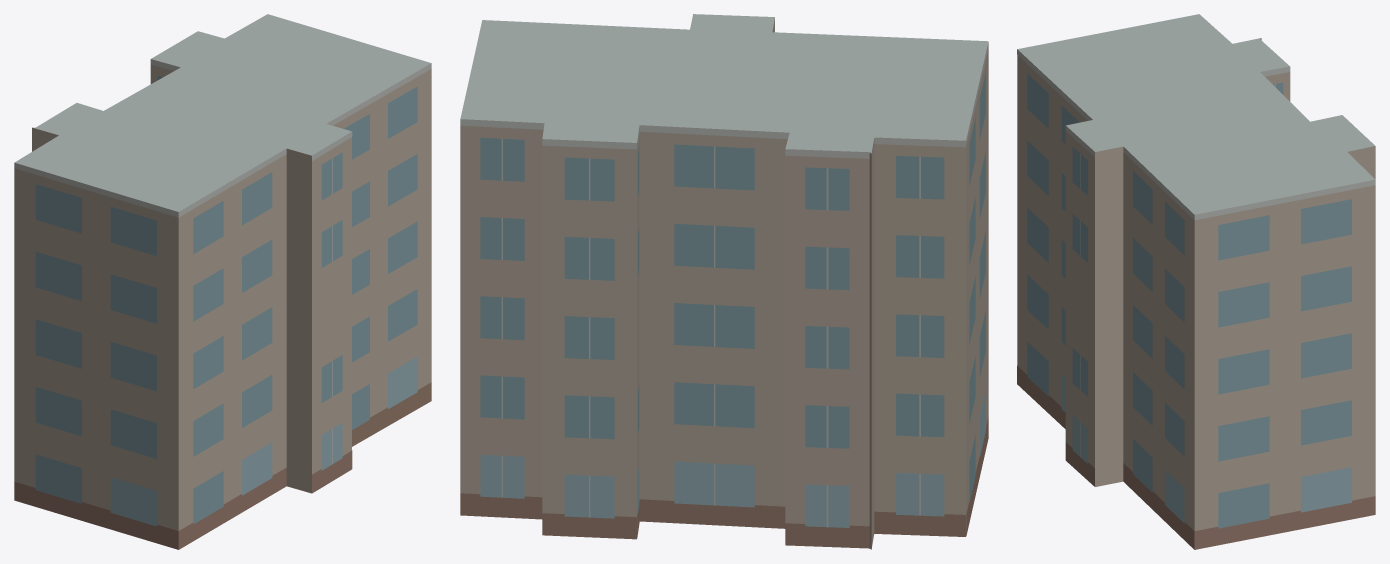
The model's file is survey-upis-32725204.glb.
3 views of the same model, side by side, from view 1: azimuth 30°, elevation 25°; view 2: azimuth 150°, elevation 25°; view 3: azimuth 270°, elevation 25° (orthographic). The views are drawn at different scales.
Visible parts, largest first — view 1: survey-upis-32725204.tmp; view 2: survey-upis-32725204.tmp; view 3: survey-upis-32725204.tmp.
Part boxes in pixels (box(x1,y1,x2,y2)): survey-upis-32725204.tmp: box(14, 14, 431, 549); survey-upis-32725204.tmp: box(460, 14, 988, 549); survey-upis-32725204.tmp: box(1017, 14, 1375, 549).
Bounding box in the file's own units: 19.03 × 14.8 × 14.36.
